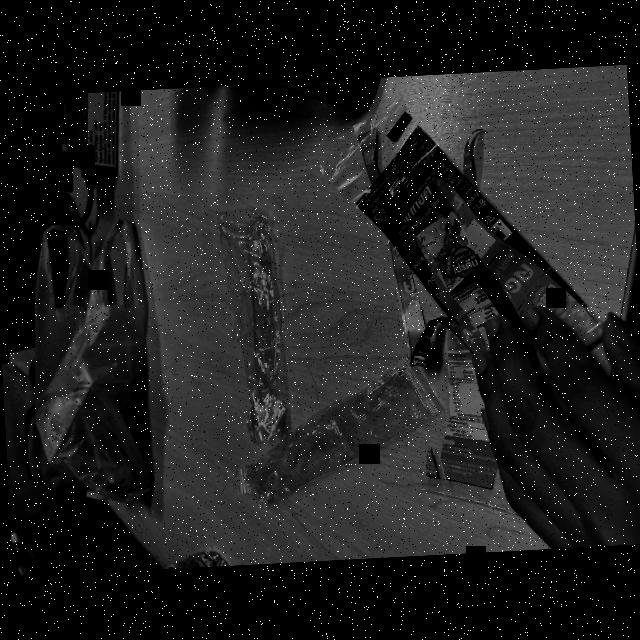scrap_plastic: (312, 95, 599, 362), (228, 358, 444, 519), (212, 180, 304, 444)
